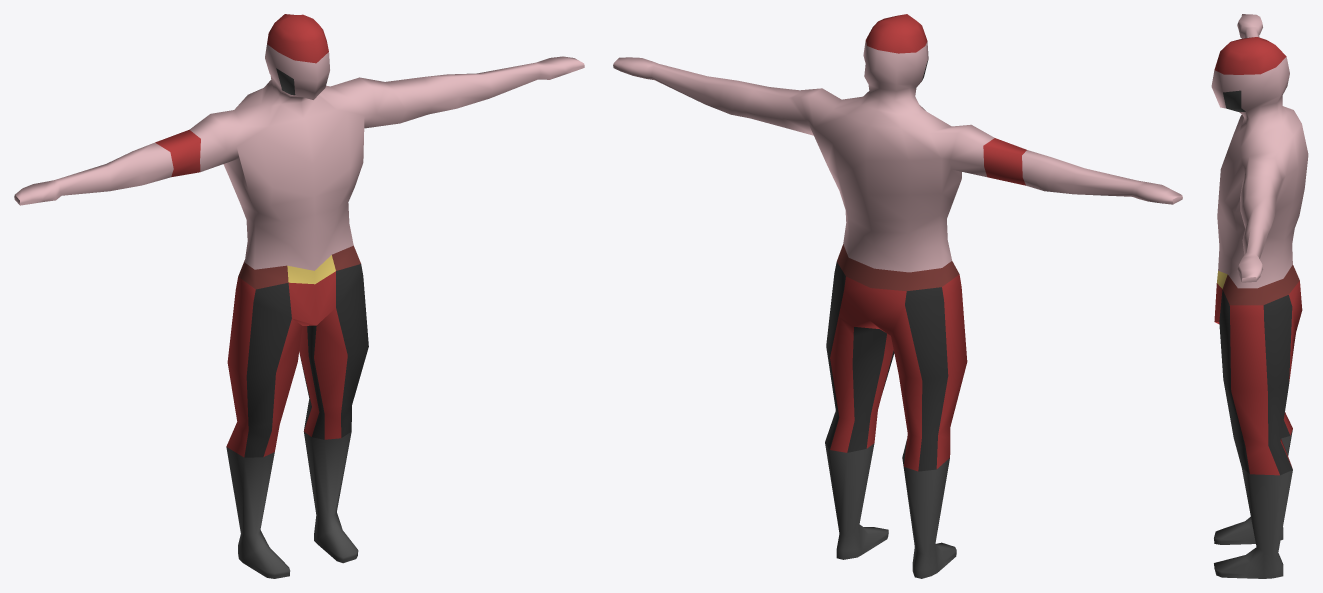
File: pirat_3ds.glb
3 views of the same model, side by side, from view 1: azimuth 30°, elevation 25°; view 2: azimuth 150°, elevation 25°; view 3: azimuth 270°, elevation 25° (orthographic). The views are drawn at different scales.
Visible parts, largest first — view 1: materialowy_chlopiec; view 2: materialowy_chlopiec; view 3: materialowy_chlopiec.
Part boxes in pixels (x1,y1,x2,y2): materialowy_chlopiec: (14,14,584,578); materialowy_chlopiec: (613,14,1182,578); materialowy_chlopiec: (1211,14,1308,578).
Bounding box in the file's own units: 1.09 × 0.9917 × 0.169.
